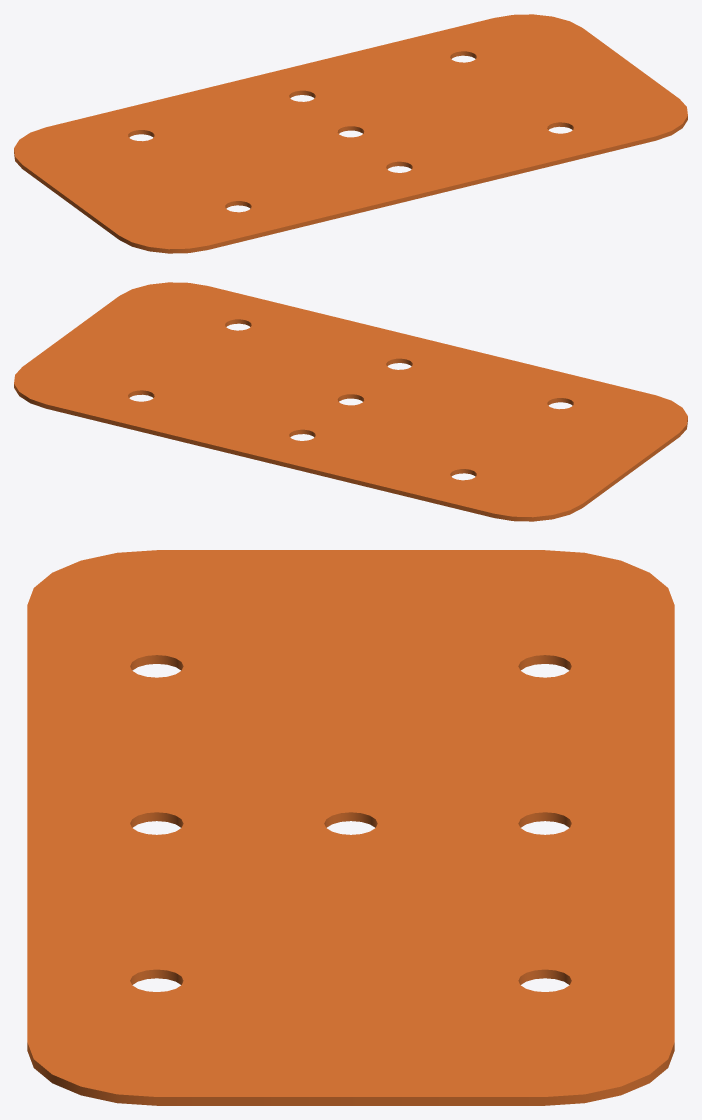
The model's file is primagon.fbx.
The picture shows the model from 3 angles, top to bottom: view 1: azimuth 30°, elevation 25°; view 2: azimuth 150°, elevation 25°; view 3: azimuth 270°, elevation 25°; orthographic projection. The views are drawn at different scales.
Visible parts, largest first — view 1: primagon; view 2: primagon; view 3: primagon.
Boxes of the visible parts, x1,y1,x2,y2 form: primagon: (14, 14, 687, 253); primagon: (14, 282, 687, 521); primagon: (27, 550, 674, 1105).
Size of the model in its own units: 4 by 0.03 by 2.
